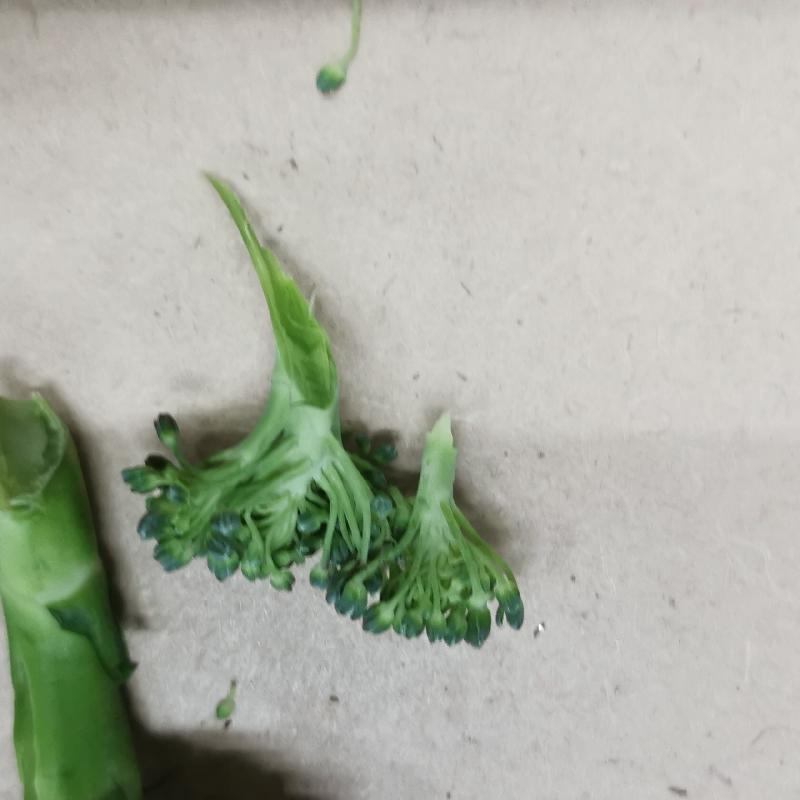broccoli: (88, 204, 593, 691)
